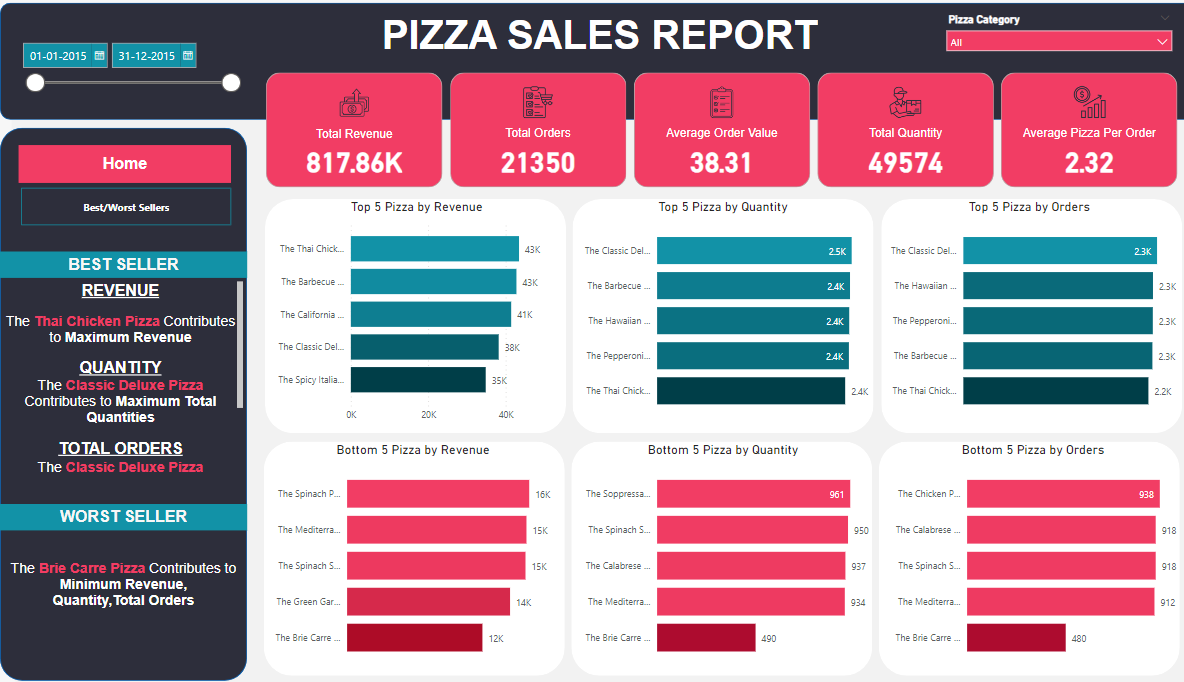

Layout of this report page (visuals, bound fields, positions):
{"tool":"powerbi","page":{"name":"Best/Worst Sellers","canvas":[1600,920],"ordinal":1},"visuals":[{"type":"shape","box":[15.1,87.3,1585.6,833.1],"z":0},{"type":"shape","box":[353.1,266.7,401.4,312.4],"z":1000},{"type":"shape","box":[0,5.1,1600.7,156],"z":2000},{"type":"cardVisual","fields":{"Data":["pizza_sales.Total Revenue","pizza_sales.Total Orders","pizza_sales.Average Order Value","pizza_sales.Total Quantity","pizza_sales.Average Pizza Per Order"]},"box":[349.4,94.1,1227.8,162.9],"z":3000},{"type":"textbox","box":[493.5,13.4,613.1,82.3],"z":4000},{"type":"shape","box":[0,171.3,329.2,737.4],"z":5000},{"type":"textbox","box":[0,674.1,329.2,35.3],"z":6000},{"type":"textbox","box":[0,709,329.2,196.5],"z":7000},{"type":"textbox","box":[0,335.9,329.2,35.3],"z":8000},{"type":"textbox","box":[0,371.2,329.2,267.1],"z":9000},{"type":"slicer","fields":{"Values":["pizza_sales.pizza_category"]},"box":[1251.3,13.4,320.8,70.5],"z":10000},{"type":"slicer","fields":{"Values":["pizza_sales.order_date"]},"box":[18.5,48.7,310.7,89],"z":11000},{"type":"shape","box":[762.9,266.7,401.4,312.4],"z":12000},{"type":"shape","box":[1174.4,266.7,401.4,312.4],"z":13000},{"type":"shape","box":[351.1,590.3,401.4,312.4],"z":14000},{"type":"shape","box":[761,590.3,401.4,312.4],"z":15000},{"type":"shape","box":[1172.5,590.3,401.4,312.4],"z":16000},{"type":"clusteredBarChart","title":"Top 5 Pizza by Revenue ","fields":{"Category":["pizza_sales.pizza_name"],"Y":["pizza_sales.Total Revenue"]},"box":[354.4,267.1,401.4,305.7],"z":17000},{"type":"clusteredBarChart","title":"Top 5 Pizza by Quantity ","fields":{"Category":["pizza_sales.pizza_name"],"Y":["pizza_sales.Total Quantity"]},"box":[762.5,267.1,401.4,299],"z":18000},{"type":"clusteredBarChart","title":"Top 5 Pizza by Orders ","fields":{"Category":["pizza_sales.pizza_name"],"Y":["pizza_sales.Total Orders"]},"box":[1172.4,267.1,401.4,299],"z":19000},{"type":"clusteredBarChart","title":"Bottom 5 Pizza by Revenue","fields":{"Category":["pizza_sales.pizza_name"],"Y":["pizza_sales.Total Revenue"]},"box":[349.8,590.7,401.4,305.7],"z":20000},{"type":"clusteredBarChart","title":"Bottom 5 Pizza by Quantity ","fields":{"Category":["pizza_sales.pizza_name"],"Y":["pizza_sales.Total Quantity"]},"box":[763,590.7,401.4,305.7],"z":21000},{"type":"clusteredBarChart","title":"Bottom 5 Pizza by Orders ","fields":{"Category":["pizza_sales.pizza_name"],"Y":["pizza_sales.Total Orders"]},"box":[1176.2,590.7,401.4,305.7],"z":22000},{"type":"pageNavigator","box":[25.2,194.8,283.9,50.4],"z":23000},{"type":"pageNavigator","box":[28.6,251.9,280.5,50.4],"z":24000}]}

Visuals, with their boxes in screenshot pixels (x1, y1, x2, y2), scaled from the page's 1600x920 canvas onto the 1184x682 screenshot:
shape: (11, 65, 1183, 681)
shape: (261, 198, 558, 429)
shape: (0, 4, 1183, 119)
cardVisual - pizza_sales.Total Revenue x pizza_sales.Total Orders: (259, 70, 1167, 191)
textbox: (365, 10, 819, 71)
shape: (0, 127, 244, 674)
textbox: (0, 500, 244, 526)
textbox: (0, 526, 244, 671)
textbox: (0, 249, 244, 275)
textbox: (0, 275, 244, 473)
slicer - pizza_sales.pizza_category: (926, 10, 1163, 62)
slicer - pizza_sales.order_date: (14, 36, 244, 102)
shape: (565, 198, 862, 429)
shape: (869, 198, 1166, 429)
shape: (260, 438, 557, 669)
shape: (563, 438, 860, 669)
shape: (868, 438, 1165, 669)
"Top 5 Pizza by Revenue " clusteredBarChart: (262, 198, 559, 425)
"Top 5 Pizza by Quantity " clusteredBarChart: (564, 198, 861, 420)
"Top 5 Pizza by Orders " clusteredBarChart: (868, 198, 1165, 420)
"Bottom 5 Pizza by Revenue" clusteredBarChart: (259, 438, 556, 665)
"Bottom 5 Pizza by Quantity " clusteredBarChart: (565, 438, 862, 665)
"Bottom 5 Pizza by Orders " clusteredBarChart: (870, 438, 1167, 665)
pageNavigator: (19, 144, 229, 182)
pageNavigator: (21, 187, 229, 224)
